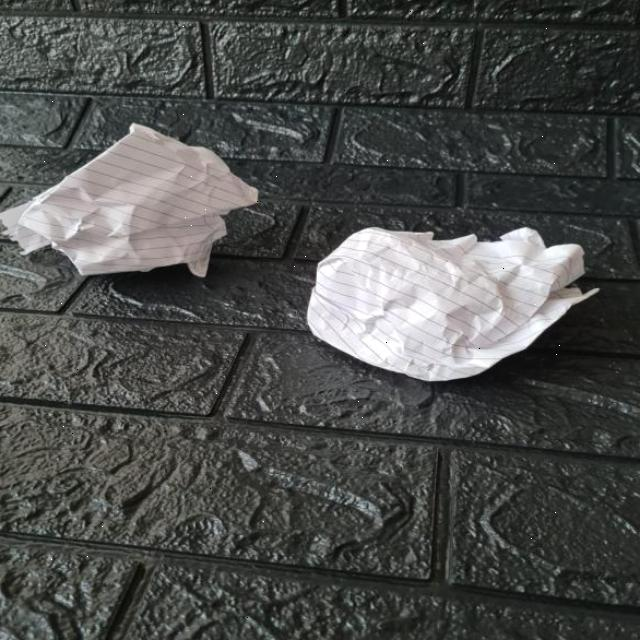trash: (304, 228, 602, 382), (0, 125, 262, 278)
